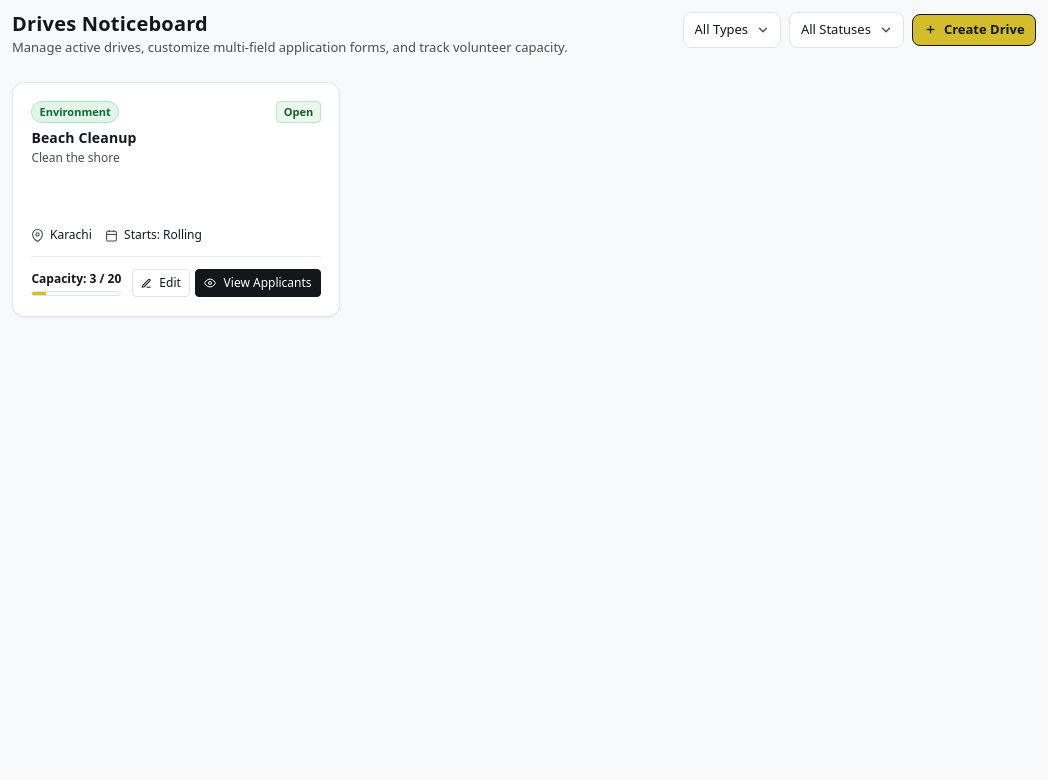
Test: YouthRepublicOpportunitiesPage › renders borderless Back to Drives button when in create or edit mode
The image size is (1048, 780).
Check: the text "Beach Cleanup" is shown, box [31, 129, 137, 146]
Click the button "Create Drive" at (974, 30), box [912, 14, 1036, 46]
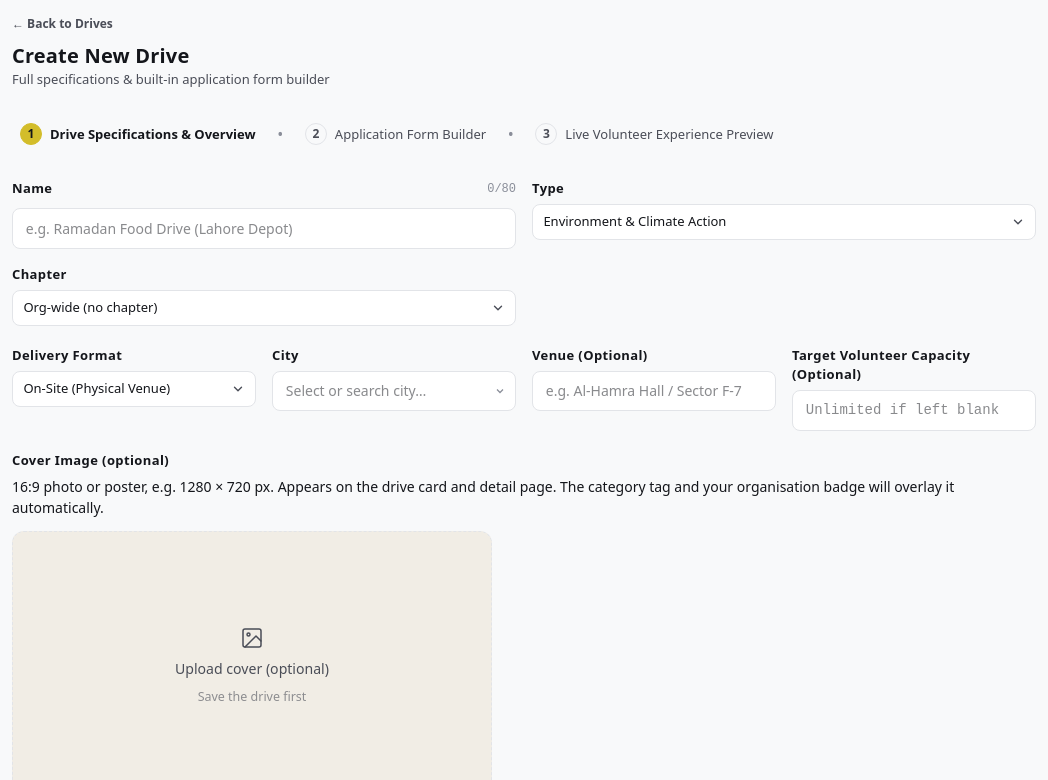
Check: the button "← Back to Drives" is shown, box [12, 16, 113, 32]
